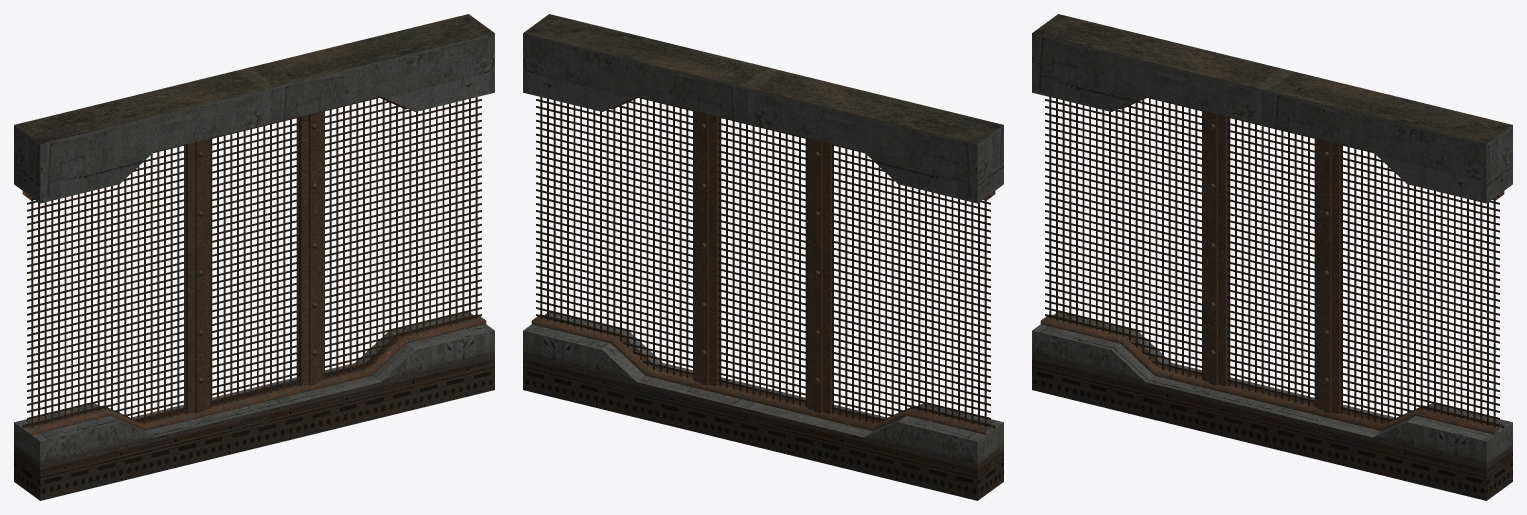
File: wall_rtx_2.obj
3 renders of one model, left to right at view 1: azimuth 30°, elevation 25°; view 2: azimuth 150°, elevation 25°; view 3: azimuth 330°, elevation 25°, orthographic.
Parts seen in each view (by area): view 1: wall_rtx_2; view 2: wall_rtx_2; view 3: wall_rtx_2.
Boxes of the visible parts, <box> form: wall_rtx_2: <box>14,14,494,500</box>; wall_rtx_2: <box>523,14,1003,500</box>; wall_rtx_2: <box>1032,14,1512,500</box>.
Size of the model in its own units: 4 by 3 by 0.4.
